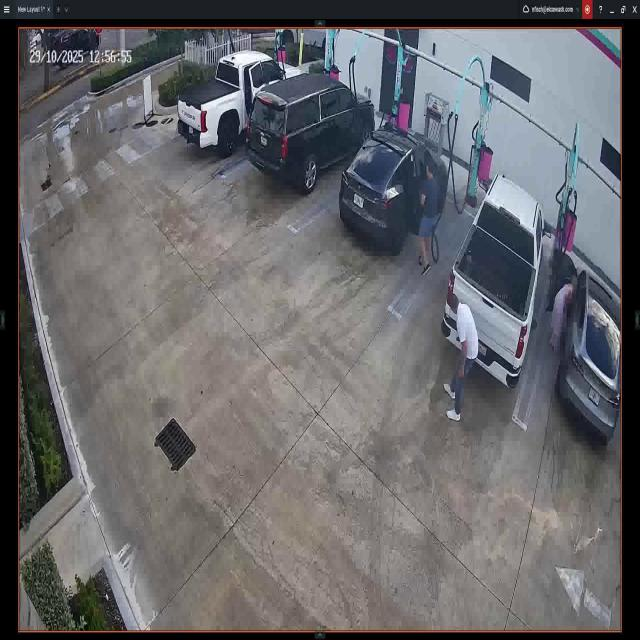Car: (440, 178, 544, 383), (250, 70, 374, 186), (339, 127, 448, 241), (179, 54, 304, 152), (557, 247, 617, 438), (280, 24, 327, 56)
